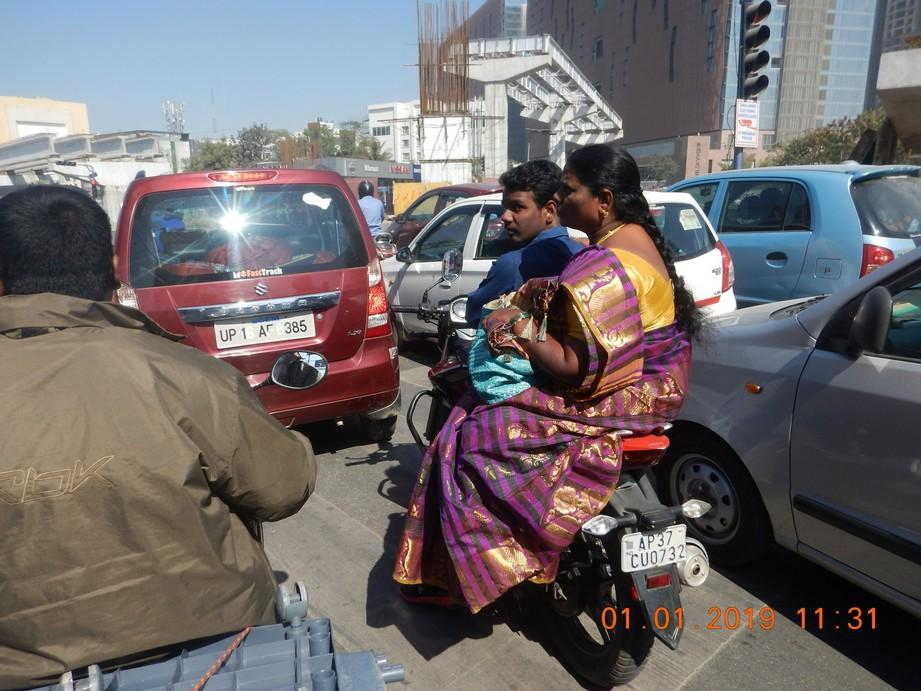plate: (621, 527, 691, 569)
